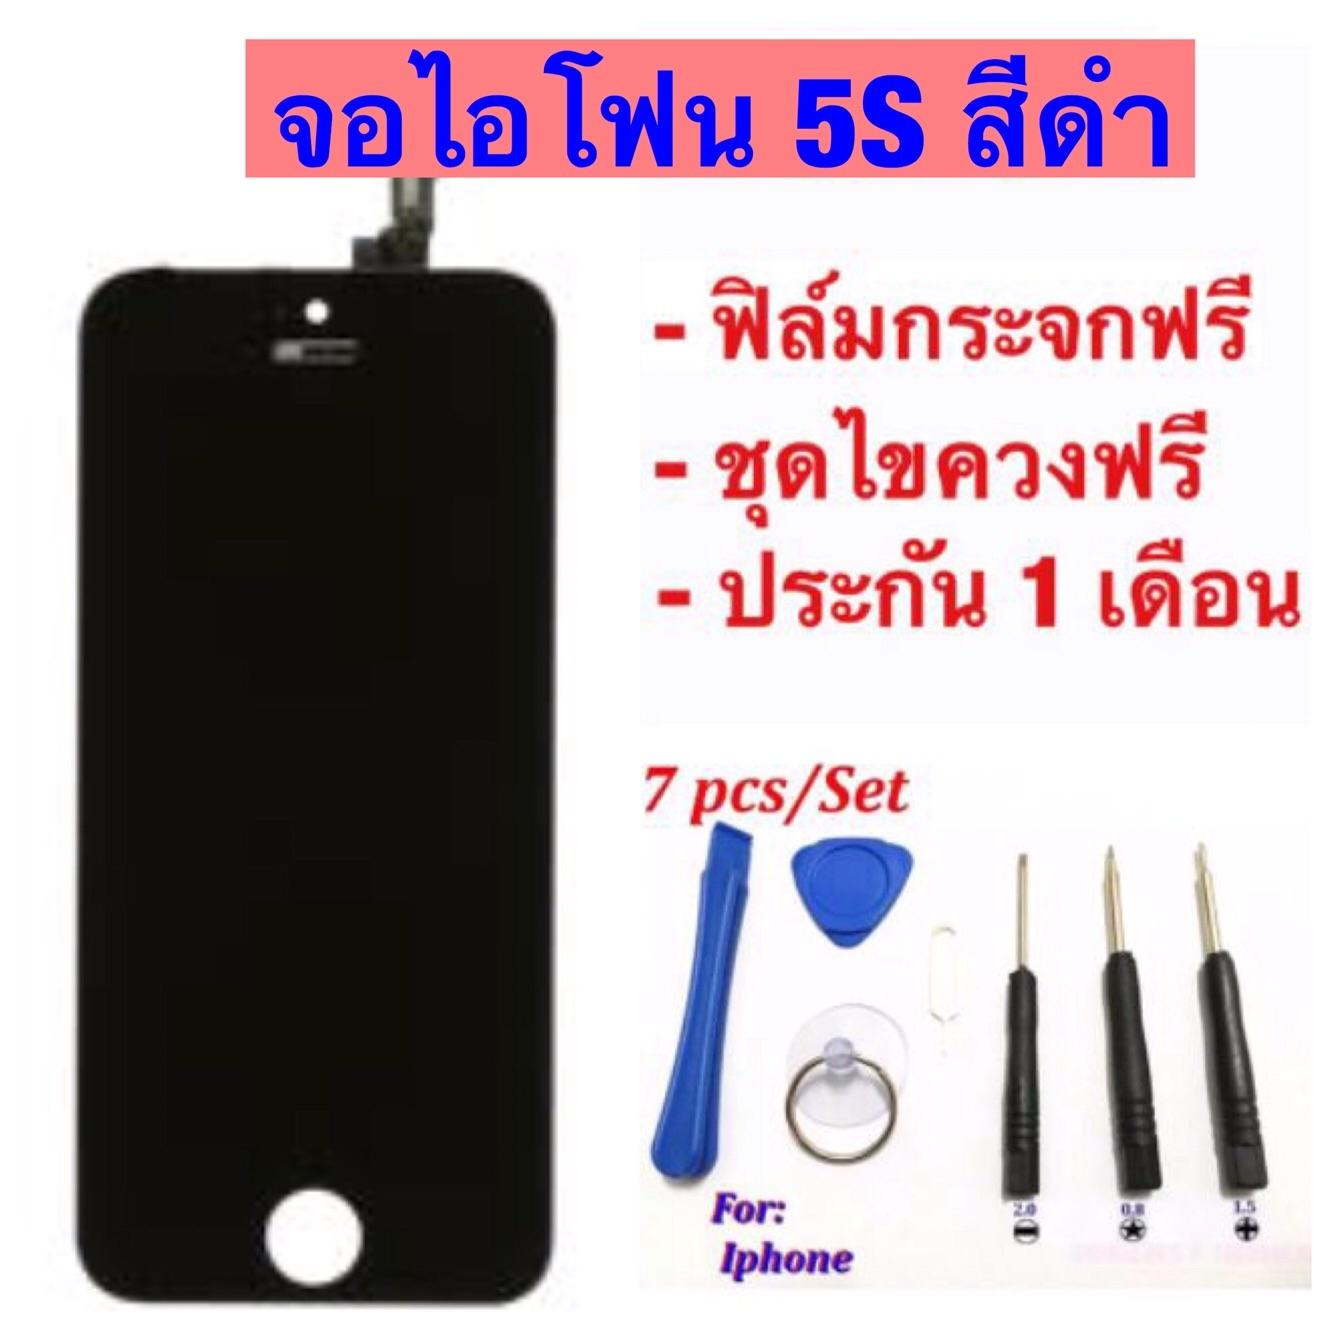Phone: (68, 260, 556, 1307)
